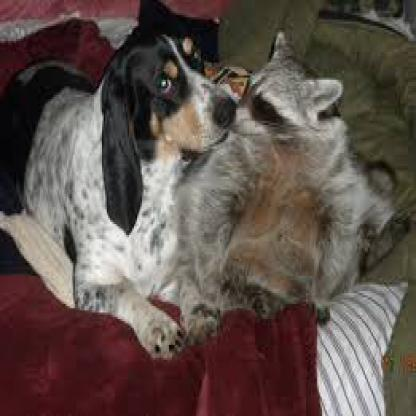raccoon: (181, 29, 387, 325)
